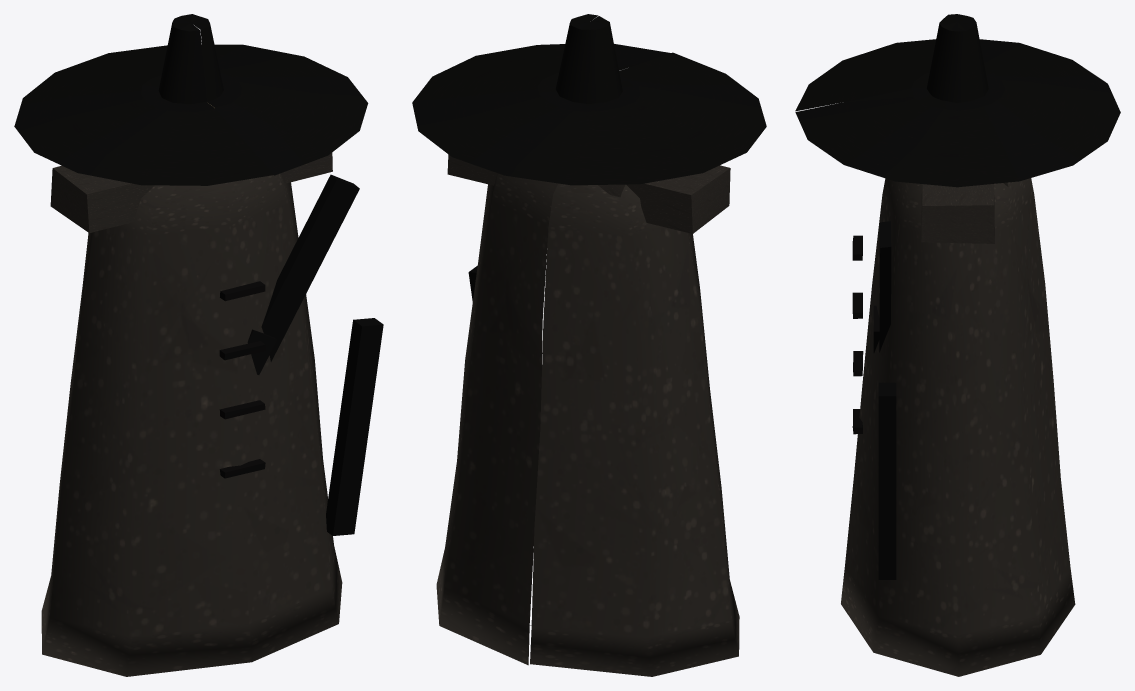
File: character-comparison-warden-stone-v1.glb
3 renders of one model, left to right at view 1: azimuth 30°, elevation 25°; view 2: azimuth 150°, elevation 25°; view 3: azimuth 270°, elevation 25°, orthographic. The views are drawn at different scales.
Visible parts, largest first — view 1: Warden stone; view 2: Warden stone; view 3: Warden stone.
Part boxes in pixels (x1=…): Warden stone: x1=14, y1=14, x2=383, y2=676; Warden stone: x1=412, y1=14, x2=766, y2=676; Warden stone: x1=795, y1=14, x2=1120, y2=676.
Size of the model in its own units: 3.6 by 6.61 by 3.32.
Materials: 6 (5 with a texture image).
